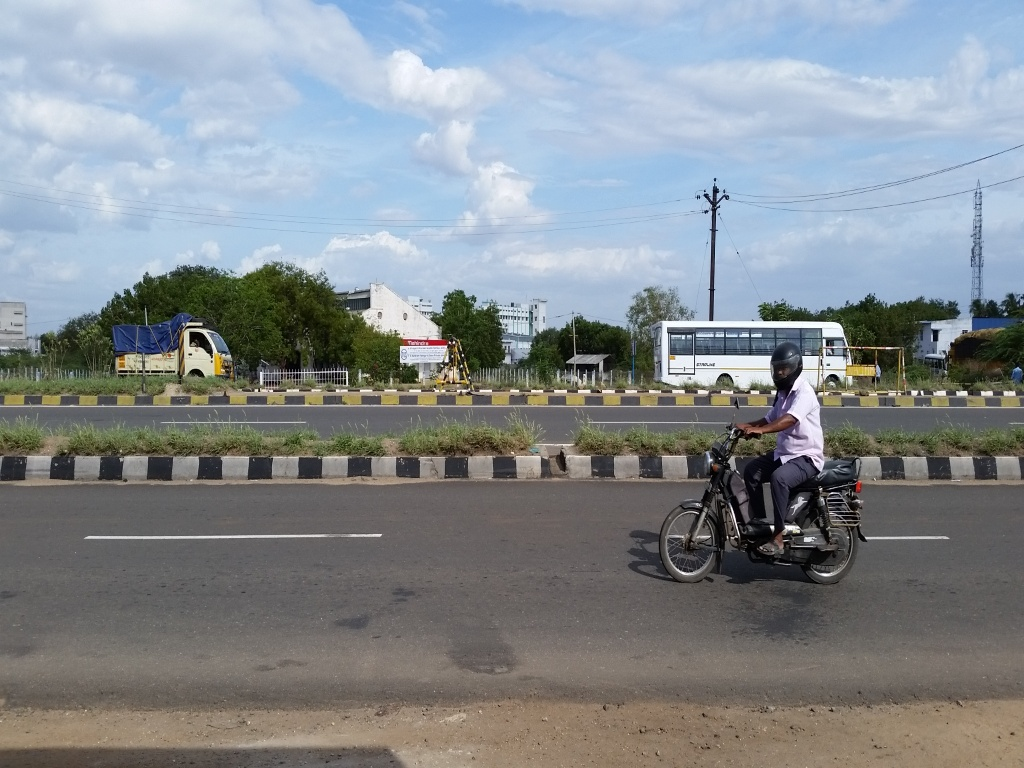biker: (638, 315, 887, 596)
helmet: (765, 340, 812, 401)
